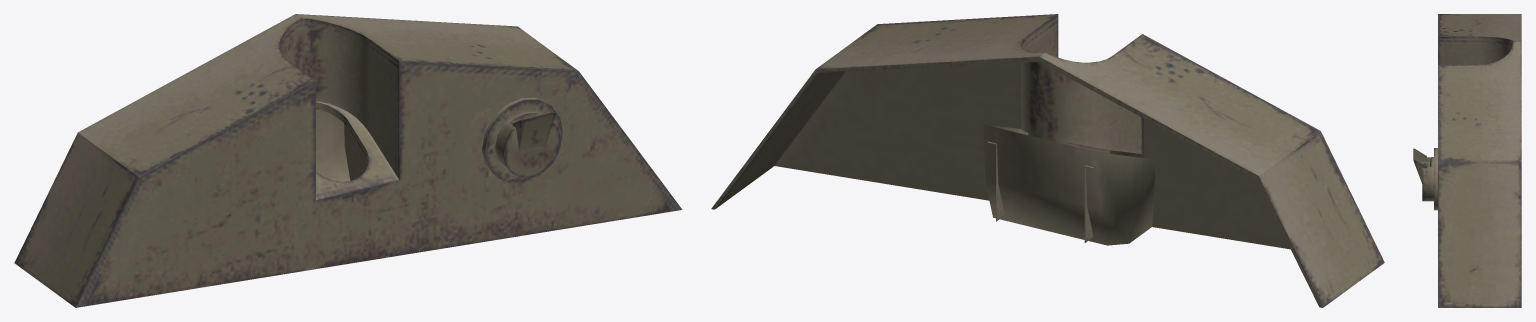
File: Turret_01.glb
The picture shows the model from 3 angles, left to right: view 1: azimuth 30°, elevation 25°; view 2: azimuth 150°, elevation 25°; view 3: azimuth 270°, elevation 25°; orthographic projection. The views are drawn at different scales.
Parts seen in each view (by area): view 1: set_0_group_0; view 2: set_0_group_0; view 3: set_0_group_0.
Part boxes in pixels (left/top/right/bottom): set_0_group_0: left=14, top=14, right=682, bottom=307; set_0_group_0: left=711, top=14, right=1384, bottom=307; set_0_group_0: left=1413, top=14, right=1521, bottom=307.
Size of the model in its own units: 2.62 by 0.9507 by 0.5936.
1 material, 1 textured.
